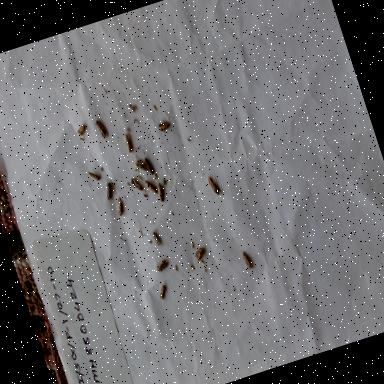pbw: (92, 112, 112, 142), (205, 170, 224, 200), (141, 151, 161, 178), (99, 178, 118, 206), (141, 172, 159, 200), (152, 252, 174, 274), (131, 152, 152, 174), (148, 225, 164, 250), (190, 242, 208, 264), (240, 247, 256, 271), (129, 172, 145, 196), (119, 130, 135, 154), (112, 194, 128, 218), (154, 280, 170, 302), (154, 116, 172, 134), (86, 166, 102, 186), (152, 180, 166, 202), (74, 121, 90, 139)
